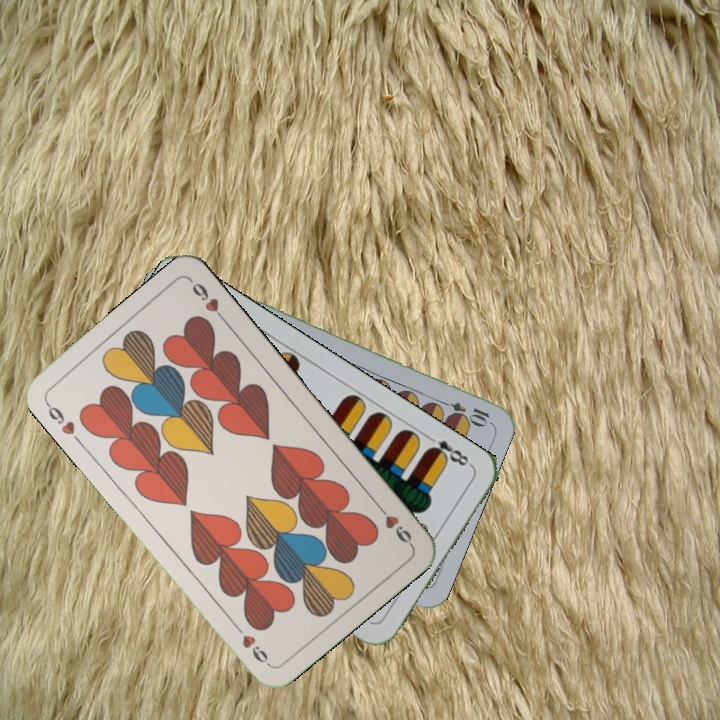E10: (434, 395, 493, 427)
E8: (422, 431, 475, 470)
H9: (372, 499, 415, 549), (41, 397, 78, 438)
